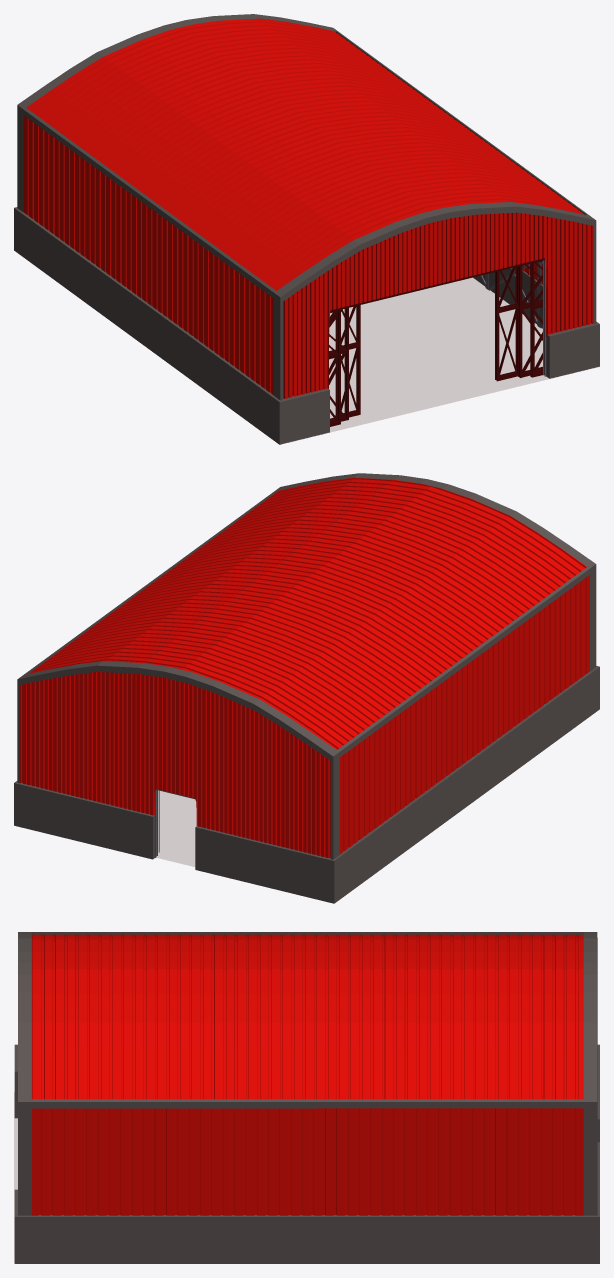
The model's file is hangar.dae.
3 renders of one model, top to bottom at view 1: azimuth 30°, elevation 25°; view 2: azimuth 150°, elevation 25°; view 3: azimuth 270°, elevation 25°, orthographic. The views are drawn at different scales.
Parts seen in each view (by area): view 1: Plane_020, Plane_023, Plane_021, Plane, Cube_001, Plane_026, Plane_014, Plane_025, Plane_015, Plane_012, Plane_024, Plane_022 (+2 smaller); view 2: Plane_020, Plane_021, Cube_001, Plane_023, Plane_026, Plane; view 3: Plane_020, Plane_023, Cube_001, Plane_026.
Boxes of the visible parts, x1=… form: Plane_020: x1=26, y1=18, x2=583, y2=290; Plane_023: x1=23, y1=32, x2=584, y2=395; Plane_021: x1=283, y1=212, x2=593, y2=398; Plane: x1=282, y1=277, x2=599, y2=444; Cube_001: x1=14, y1=207, x2=599, y2=444; Plane_026: x1=17, y1=14, x2=596, y2=400; Plane_014: x1=495, y1=266, x2=517, y2=381; Plane_025: x1=335, y1=305, x2=360, y2=417; Plane_015: x1=518, y1=264, x2=542, y2=377; Plane_012: x1=530, y1=260, x2=542, y2=377; Plane_024: x1=329, y1=308, x2=348, y2=421; Plane_022: x1=329, y1=310, x2=340, y2=426; Plane_020: x1=29, y1=477, x2=586, y2=749; Plane_021: x1=20, y1=672, x2=330, y2=858; Cube_001: x1=14, y1=666, x2=599, y2=903; Plane_023: x1=32, y1=493, x2=589, y2=854; Plane_026: x1=17, y1=473, x2=596, y2=859; Plane: x1=156, y1=791, x2=196, y2=866; Plane_020: x1=31, y1=934, x2=583, y2=1099; Plane_023: x1=31, y1=934, x2=583, y2=1215; Cube_001: x1=14, y1=1044, x2=599, y2=1263; Plane_026: x1=18, y1=932, x2=597, y2=1215.
Bounding box in the file's own units: 13.64 × 19.62 × 7.74.
